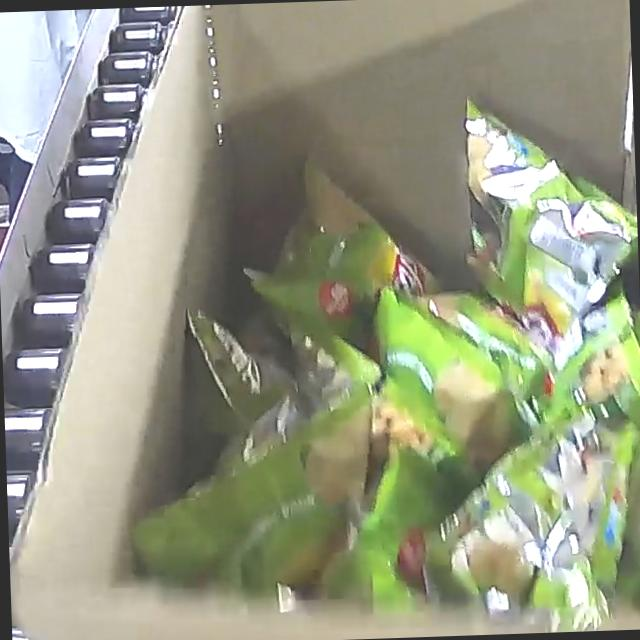yogurt: (112, 87, 640, 640)
